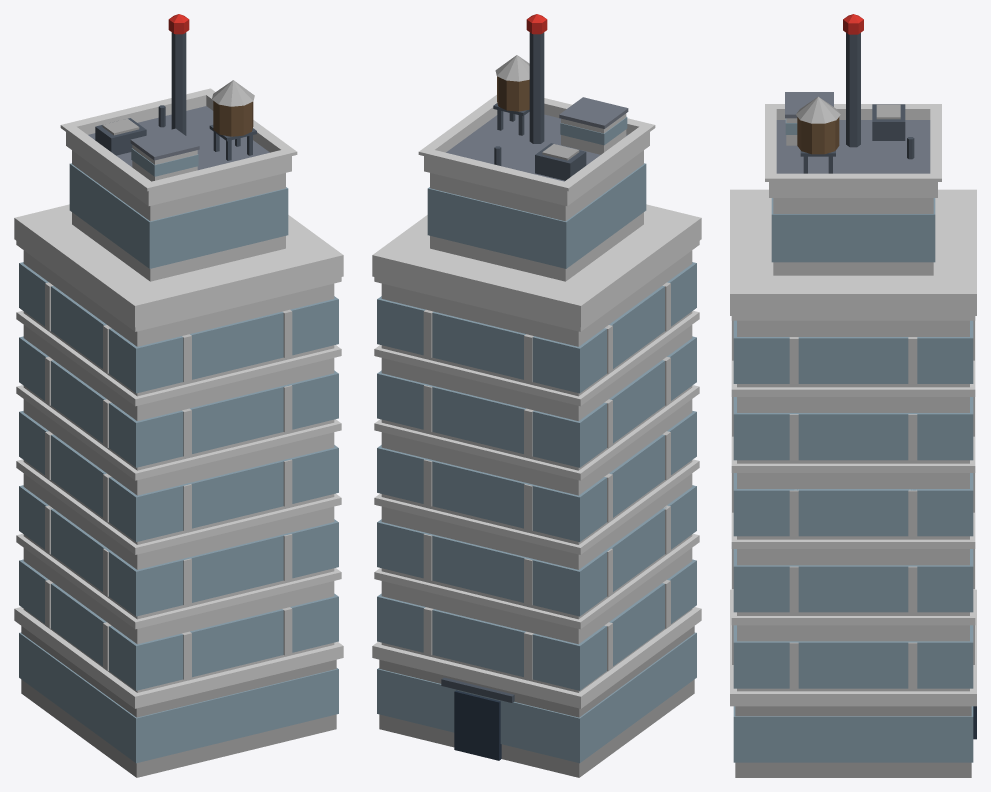
Rendered from building_medium.glb.
The picture shows the model from 3 angles, left to right: view 1: azimuth 30°, elevation 25°; view 2: azimuth 150°, elevation 25°; view 3: azimuth 270°, elevation 25°; orthographic projection. The views are drawn at different scales.
Parts seen in each view (by area): view 1: building_medium; view 2: building_medium; view 3: building_medium.
Part boxes in pixels (bbox=[...]): building_medium: bbox=[14, 14, 343, 777]; building_medium: bbox=[372, 14, 701, 777]; building_medium: bbox=[730, 14, 976, 777].
Size of the model in its own units: 11.22 by 35.83 by 11.22.
